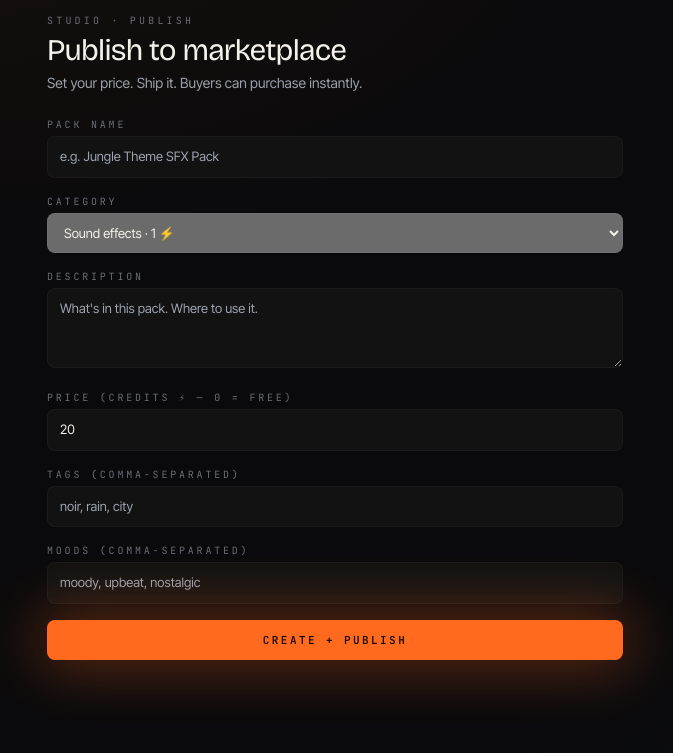
StudioPublish › shows validation error when title is empty
The image size is (673, 753).
Click the button with test id "publish-submit" at (335, 640), box [47,620,623,660]
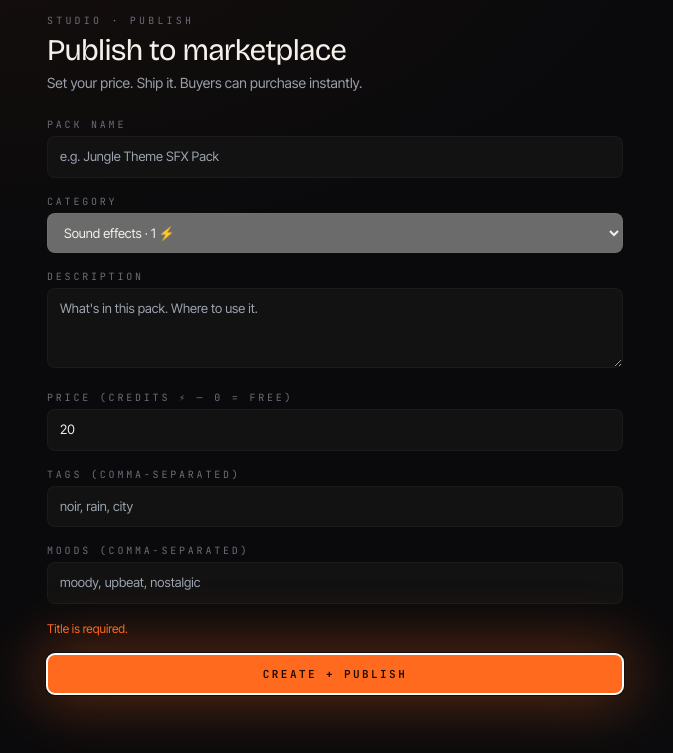
Expected: the text "Title is required." is shown, [47,620,128,636]
